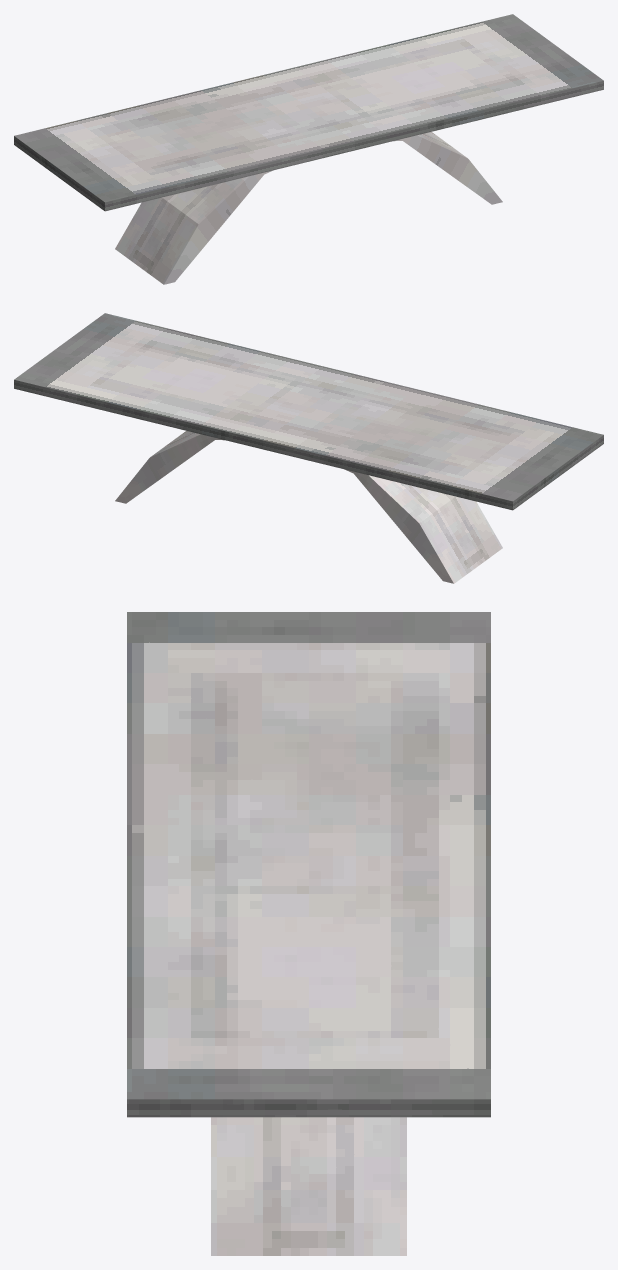
File: frn_all_mdrn_coffee_table_s01_l2.fbx
3 renders of one model, top to bottom at view 1: azimuth 30°, elevation 25°; view 2: azimuth 150°, elevation 25°; view 3: azimuth 270°, elevation 25°, orthographic. The views are drawn at different scales.
Parts seen in each view (by area): view 1: mesh_node; view 2: mesh_node; view 3: mesh_node.
Boxes of the visible parts, x1,y1,x2,y2 form: mesh_node: (14, 14, 603, 284); mesh_node: (14, 313, 603, 583); mesh_node: (127, 612, 490, 1255).
Size of the model in its own units: 3.52 by 0.7908 by 1.11.
1 material, 1 textured.
